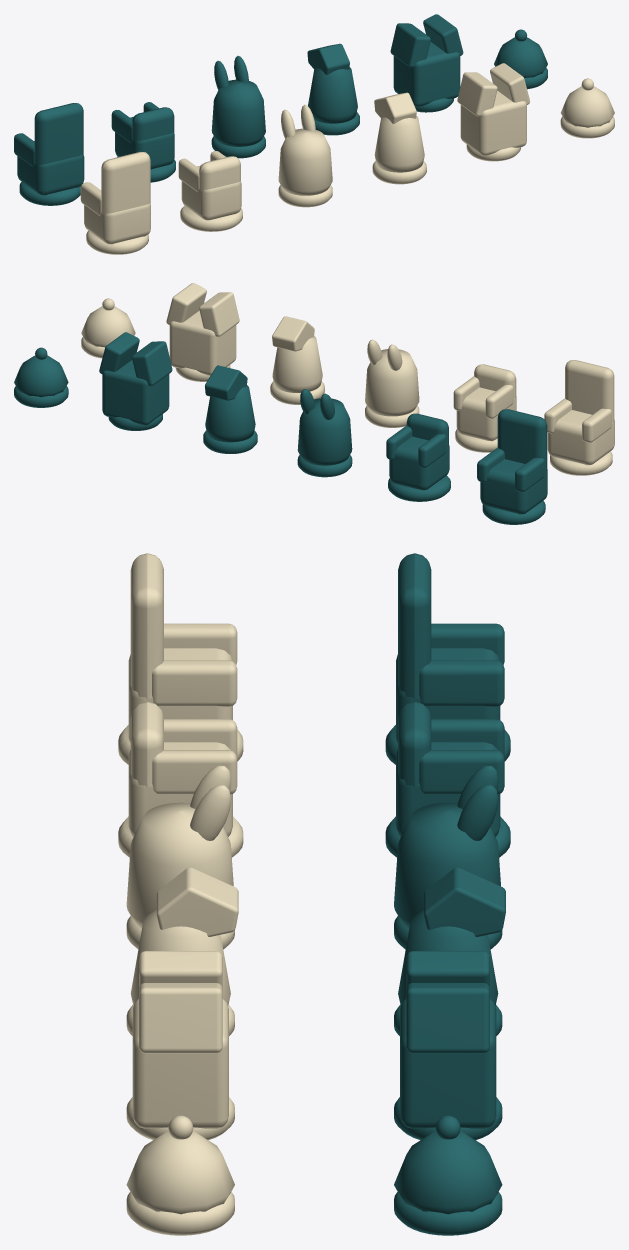
The model's file is collection.glb.
3 renders of one model, top to bottom at view 1: azimuth 30°, elevation 25°; view 2: azimuth 150°, elevation 25°; view 3: azimuth 270°, elevation 25°, orthographic. The views are drawn at different scales.
Parts seen in each view (by area): view 1: Alfil rounded body, Alfil rounded body.001, Rukh body, Rukh body.001, Throne back, Throne back.002, Horse rounded body, Horse rounded body.001, Throne seat.002, Throne seat, Throne seat.001, Faceted pawn dome (+25 smaller); view 2: Rukh body.001, Rukh body, Alfil rounded body, Alfil rounded body.001, Throne back.002, Throne back, Throne seat.002, Throne seat, Horse rounded body.001, Horse rounded body, Throne seat.003, Faceted pawn dome.001 (+28 smaller); view 3: Rukh body.001, Rukh body, Alfil rounded body, Alfil rounded body.001, Faceted pawn dome.001, Faceted pawn dome, Rukh wedge shoulder.003, Rukh wedge shoulder.001, Throne back, Throne back.002, Abstract horse head, Abstract horse head.001 (+24 smaller).
Boxes of the visible parts, x1,y1,x2,y2 form: Alfil rounded body: (278, 128, 332, 195); Alfil rounded body.001: (211, 79, 265, 146); Rukh body: (460, 91, 526, 155); Rukh body.001: (393, 41, 460, 106); Throne back: (101, 151, 150, 215); Throne back.002: (34, 103, 83, 166); Horse rounded body: (374, 116, 424, 172); Horse rounded body.001: (308, 67, 357, 123); Throne seat.002: (17, 141, 84, 195); Throne seat: (84, 203, 150, 244); Throne seat.001: (181, 165, 241, 220); Faceted pawn dome: (561, 86, 614, 127); Rukh body.001: (102, 360, 169, 425); Rukh body: (169, 310, 236, 375); Alfil rounded body: (365, 349, 419, 416); Alfil rounded body.001: (297, 398, 352, 465); Throne back.002: (497, 409, 547, 472); Throne back: (565, 360, 614, 422); Throne seat.002: (480, 459, 547, 514); Throne seat: (547, 410, 614, 465); Horse rounded body.001: (205, 385, 255, 442); Horse rounded body: (272, 336, 322, 392); Throne seat.003: (389, 436, 449, 490); Faceted pawn dome.001: (14, 355, 68, 397); Rukh body.001: (400, 999, 496, 1128); Rukh body: (132, 999, 228, 1128); Alfil rounded body: (126, 802, 233, 928); Alfil rounded body.001: (394, 802, 500, 928); Faceted pawn dome.001: (394, 1131, 502, 1214); Faceted pawn dome: (126, 1131, 234, 1214); Rukh wedge shoulder.003: (406, 983, 489, 1053); Rukh wedge shoulder.001: (139, 983, 222, 1053); Throne back: (130, 553, 163, 699); Throne back.002: (398, 553, 431, 699); Abstract horse head: (156, 867, 238, 936); Abstract horse head.001: (424, 867, 505, 936).
Bounding box in the file's own units: 0.288 × 0.049 × 0.094.
